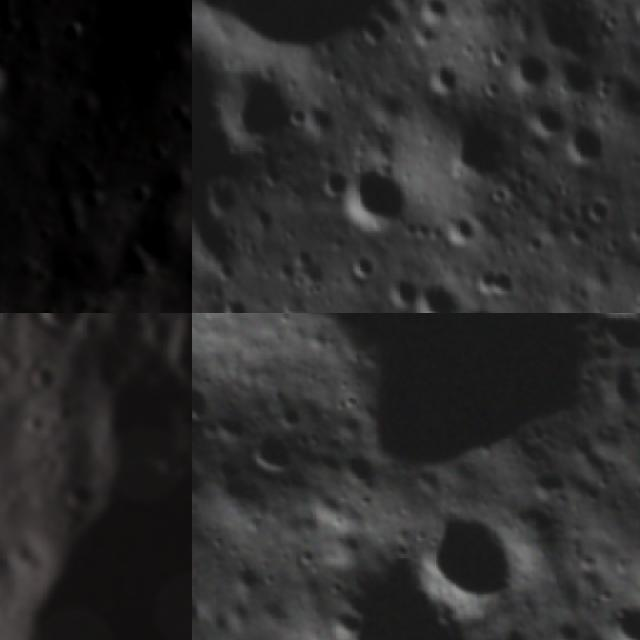crater: (192, 313, 640, 568), (6, 436, 192, 640), (397, 487, 540, 640), (308, 537, 489, 640), (88, 368, 192, 476), (327, 159, 418, 247), (424, 110, 510, 188), (234, 417, 305, 492), (578, 313, 640, 372), (523, 454, 578, 506), (519, 98, 571, 147), (591, 588, 640, 640), (26, 313, 97, 348), (562, 122, 610, 173), (317, 596, 371, 640), (335, 446, 383, 494), (402, 276, 464, 313), (506, 48, 554, 94), (224, 556, 269, 602), (312, 163, 357, 208), (378, 268, 422, 313), (264, 393, 306, 438), (60, 473, 103, 515), (205, 447, 245, 492), (192, 374, 221, 433), (330, 380, 370, 422), (425, 61, 465, 102), (577, 188, 618, 228), (23, 358, 63, 396), (341, 248, 379, 286), (411, 0, 454, 33), (488, 616, 544, 640), (192, 453, 214, 512), (576, 479, 610, 512), (278, 101, 311, 132), (213, 290, 253, 313), (450, 298, 509, 313), (320, 61, 350, 90), (19, 409, 50, 436), (0, 56, 14, 109), (519, 231, 547, 257), (118, 313, 158, 331)
